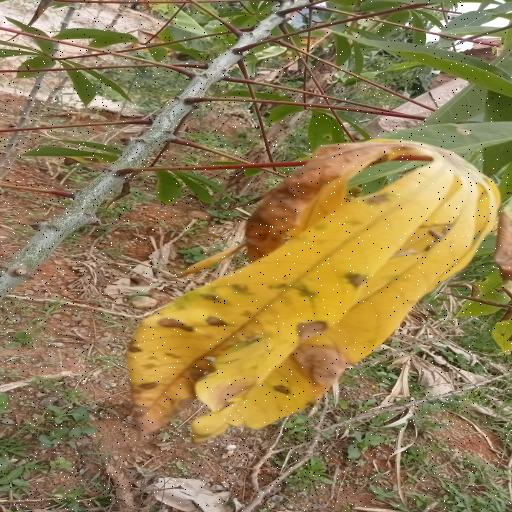Cassava_Root_Rot: (118, 136, 506, 440)
